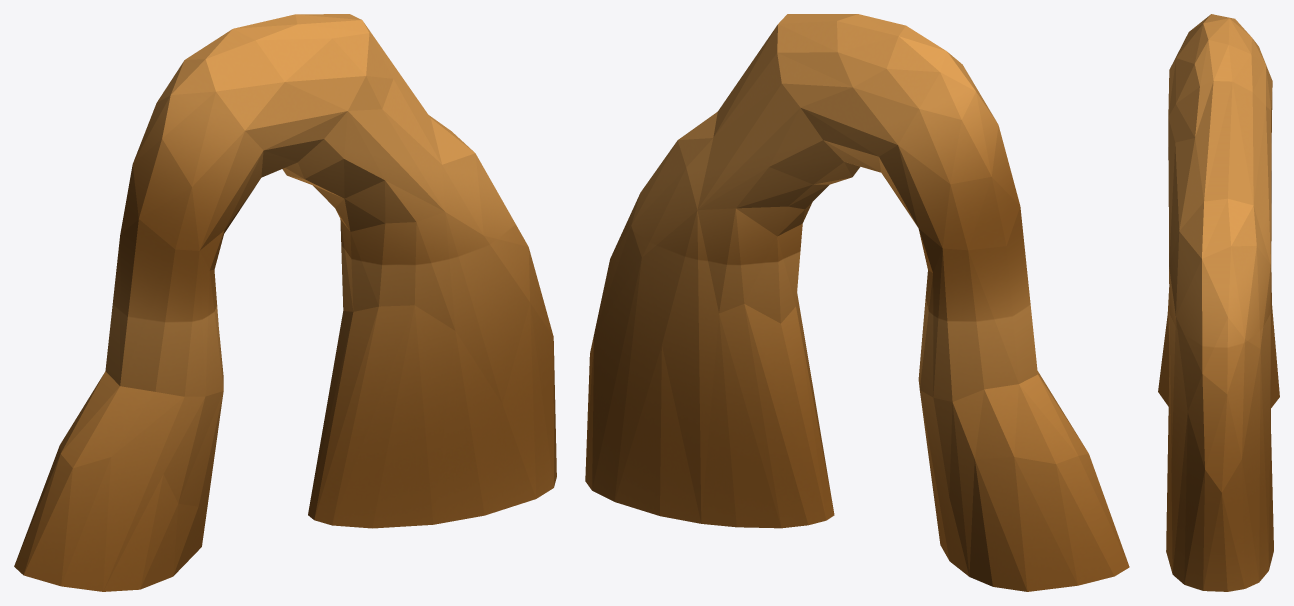
File: delicateArch 1.fbx
3 renders of one model, left to right at view 1: azimuth 30°, elevation 25°; view 2: azimuth 150°, elevation 25°; view 3: azimuth 270°, elevation 25°, orthographic. The views are drawn at different scales.
Parts seen in each view (by area): view 1: delicateArch; view 2: delicateArch; view 3: delicateArch.
Boxes of the visible parts, x1,y1,x2,y2 form: delicateArch: (14,14,556,591); delicateArch: (585,14,1129,591); delicateArch: (1158,14,1279,591).
Bounding box in the file's own units: 3038 × 2795 × 697.
